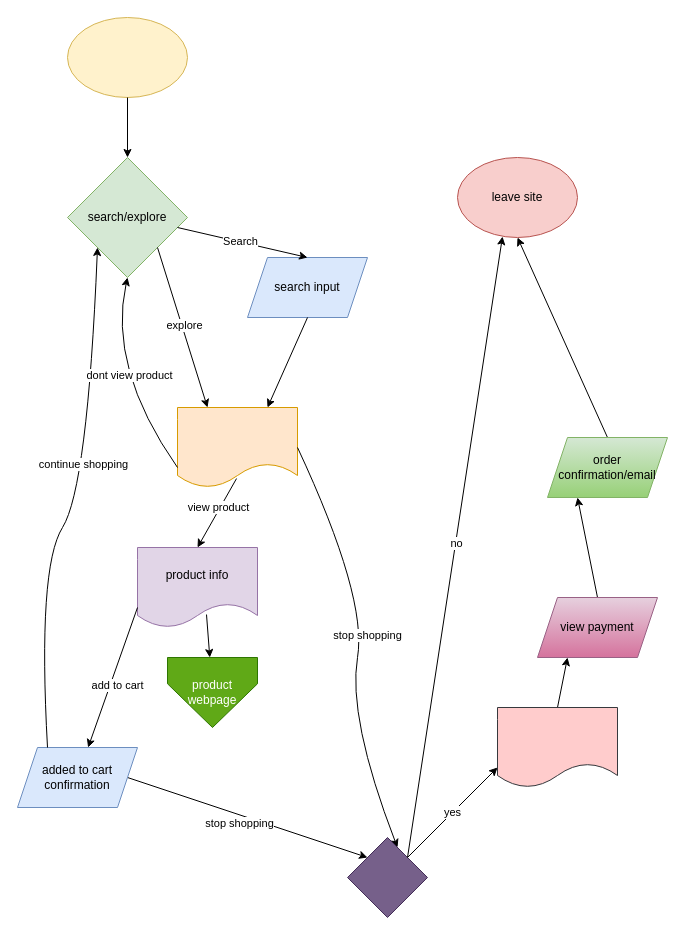
The diagram is 685 pixels wide and 935 high, and some of its shapes have lost their labels. The centre of each missing label's shape, as x and y in pixels:
"browse products" belongs at (237,447).
"checkout?" belongs at (387,877).
"Start" belongs at (127,57).
"view cart" belongs at (557,747).
